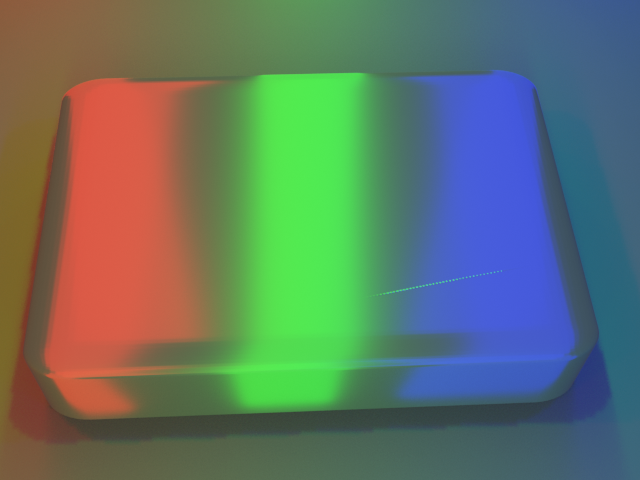scratch: (251, 167, 592, 387)
